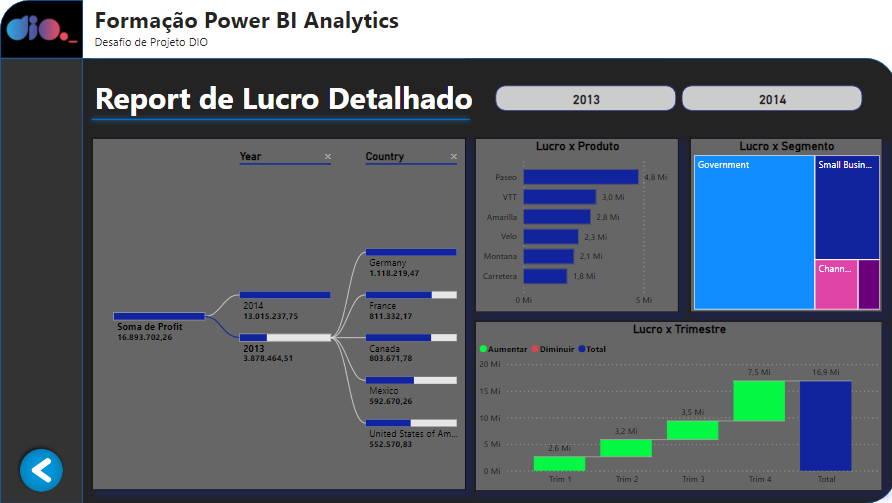

The page's visual inventory and layout, read from the dashboard file:
{"tool":"powerbi","page":{"name":"Página 2","canvas":[1280,720],"ordinal":1},"visuals":[{"type":"shape","box":[51.2,83.4,1229.3,636.6],"z":0},{"type":"shape","box":[0,83.4,118.5,636.6],"z":1000},{"type":"shape","box":[0,0,118.5,83.4],"z":2000},{"type":"image","box":[1.5,0,117.1,83.4],"z":3000},{"type":"textbox","box":[130.2,0,532.7,83.4],"z":4000},{"type":"textbox","box":[130.2,103.9,589.8,71.7],"z":5000},{"type":"shape","box":[122.9,144.9,556.1,52.7],"z":6000},{"type":"decompositionTreeVisual","title":"Total de Vendas x Mês","fields":{"Analyze":["Sum(financials.Profit)"],"ExplainBy":["financials.Year","financials.Country"]},"box":[131.7,197.6,534.1,503.4],"z":7000},{"type":"barChart","title":"Lucro x Produto","fields":{"Category":["financials.Product"],"Y":["Sum(financials.Profit)"]},"box":[679,197.6,291.2,248.8],"z":8000},{"type":"advancedSlicerVisual","title":"Filtro de Data","fields":{"Values":["financials.Year"]},"box":[702.4,117.1,534.1,46.8],"z":9000},{"type":"image","box":[13.7,624.2,86.3,90],"z":11000},{"type":"treemap","title":"Lucro x Segmento","fields":{"Values":["Sum(financials.Profit)"],"Group":["financials.Segment"]},"box":[986.3,197.6,275.1,248.8],"z":12000},{"type":"waterfallChart","title":"Lucro x Trimestre","fields":{"Y":["Sum(financials.Profit)"],"Category":["financials.Date.Variation.Hierarquia de datas.Trimestre"]},"box":[679,458,582.4,242.9],"z":13000}]}

Visuals, with their boxes in screenshot pixels (x1, y1, x2, y2), scaled from the page's 1280x720 canvas onto the 892x503 screenshot:
shape: l=36, t=58, r=891, b=502
shape: l=0, t=58, r=83, b=502
shape: l=0, t=0, r=83, b=58
image: l=1, t=0, r=83, b=58
textbox: l=91, t=0, r=462, b=58
textbox: l=91, t=73, r=502, b=123
shape: l=86, t=101, r=473, b=138
"Total de Vendas x Mês" decompositionTreeVisual: l=92, t=138, r=464, b=490
"Lucro x Produto" barChart: l=473, t=138, r=676, b=312
"Filtro de Data" advancedSlicerVisual: l=489, t=82, r=862, b=115
image: l=10, t=436, r=70, b=499
"Lucro x Segmento" treemap: l=687, t=138, r=879, b=312
"Lucro x Trimestre" waterfallChart: l=473, t=320, r=879, b=490
